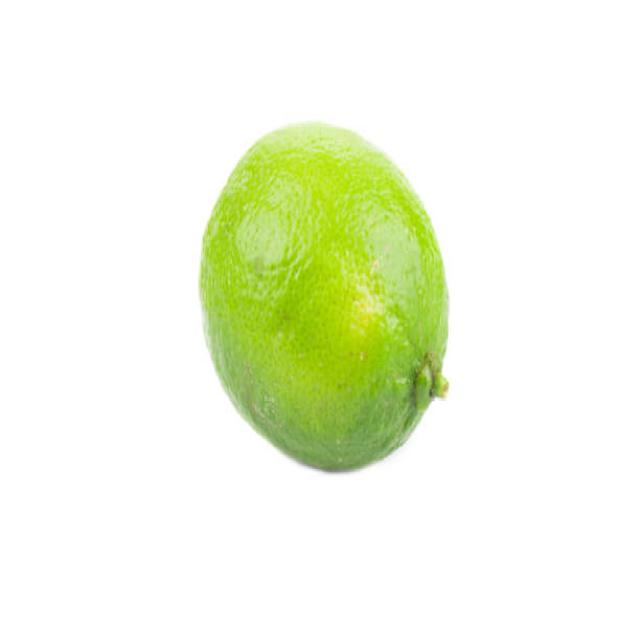Unripe: (198, 118, 451, 473)
